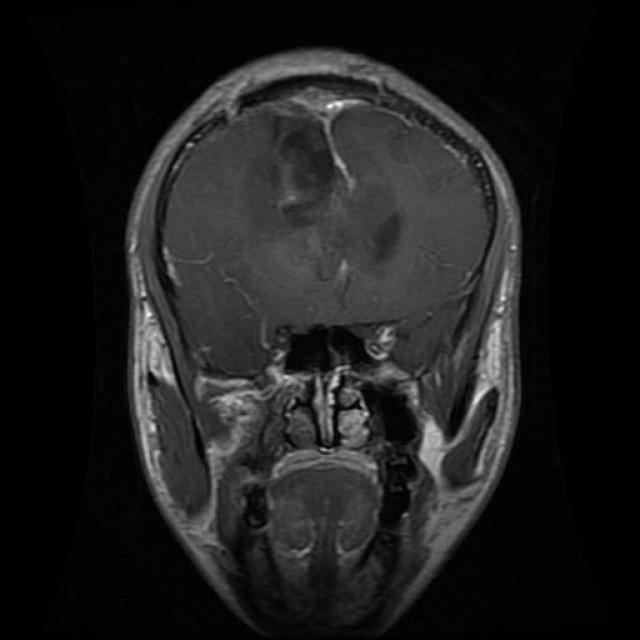Brain-Tumor: (246, 71, 399, 248)
